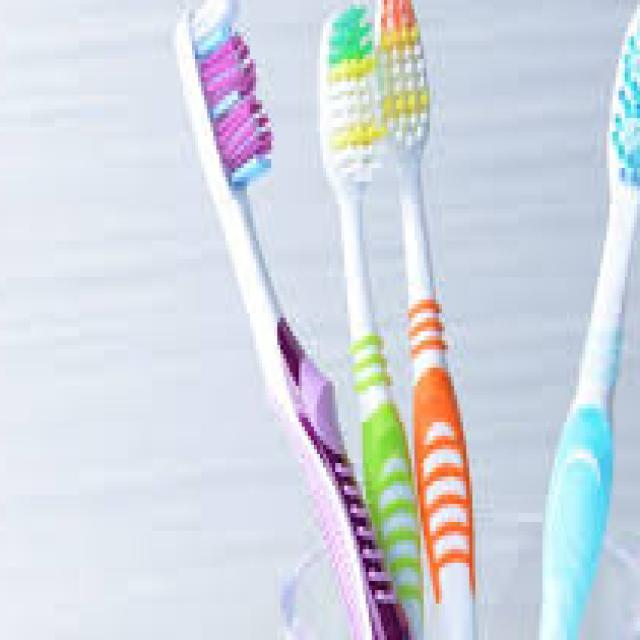organic: (169, 4, 629, 629)
